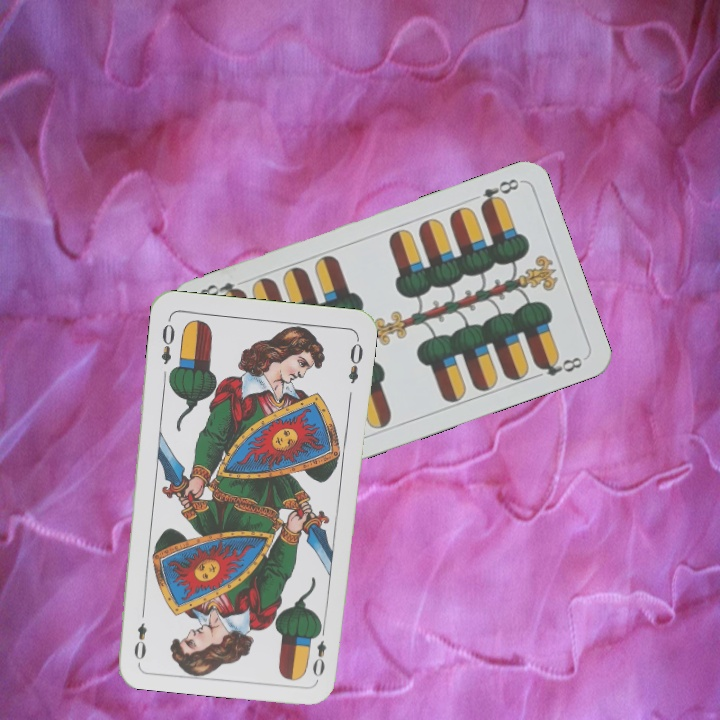E8: (476, 174, 522, 211)
EO: (308, 622, 329, 680), (156, 320, 178, 367)
